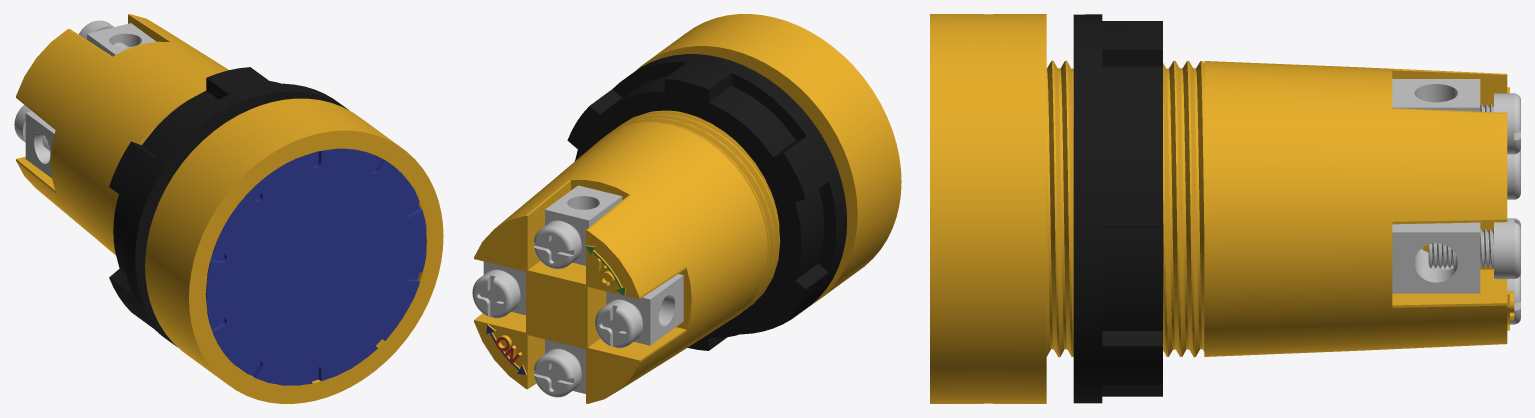
The model's file is 25mm Push Button SwitchBlue.fbx.
3 views of the same model, side by side, from view 1: azimuth 30°, elevation 25°; view 2: azimuth 150°, elevation 25°; view 3: azimuth 270°, elevation 25° (orthographic). The views are drawn at different scales.
Parts seen in each view (by area): view 1: Body1 (×6); view 2: Body1 (×10); view 3: Body1 (×7).
Boxes of the visible parts, <box> form: Body1 (×6): <box>14,14,443,403</box>; Body1 (×10): <box>472,14,901,403</box>; Body1 (×7): <box>930,14,1520,403</box>.
Size of the model in its own units: 28.8 by 28.8 by 43.6.
